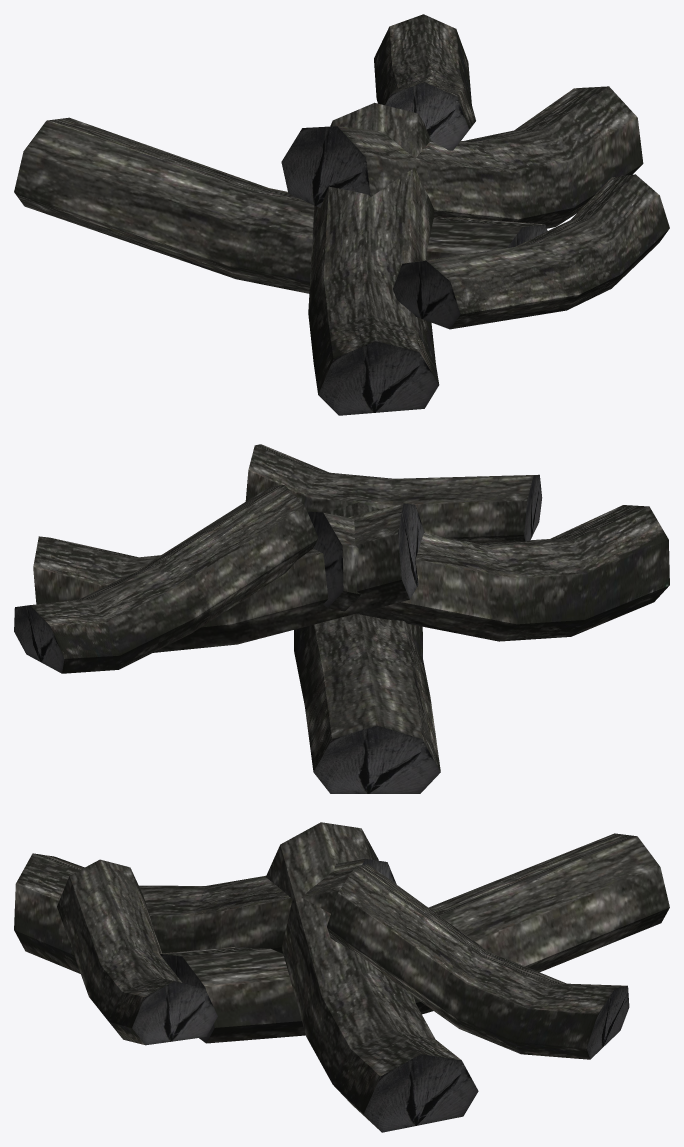
Rendered from mokutans.fbx.
3 views of the same model, one above another, from view 1: azimuth 30°, elevation 25°; view 2: azimuth 150°, elevation 25°; view 3: azimuth 270°, elevation 25° (orthographic). The views are drawn at different scales.
Parts seen in each view (by area): view 1: mokutanmatome; view 2: mokutanmatome; view 3: mokutanmatome.
Boxes of the visible parts, x1,y1,x2,y2 form: mokutanmatome: (14, 14, 669, 415); mokutanmatome: (14, 444, 669, 793); mokutanmatome: (14, 822, 669, 1132).
Bounding box in the file's own units: 4.53 × 1.55 × 5.05.
1 material, 1 textured.
